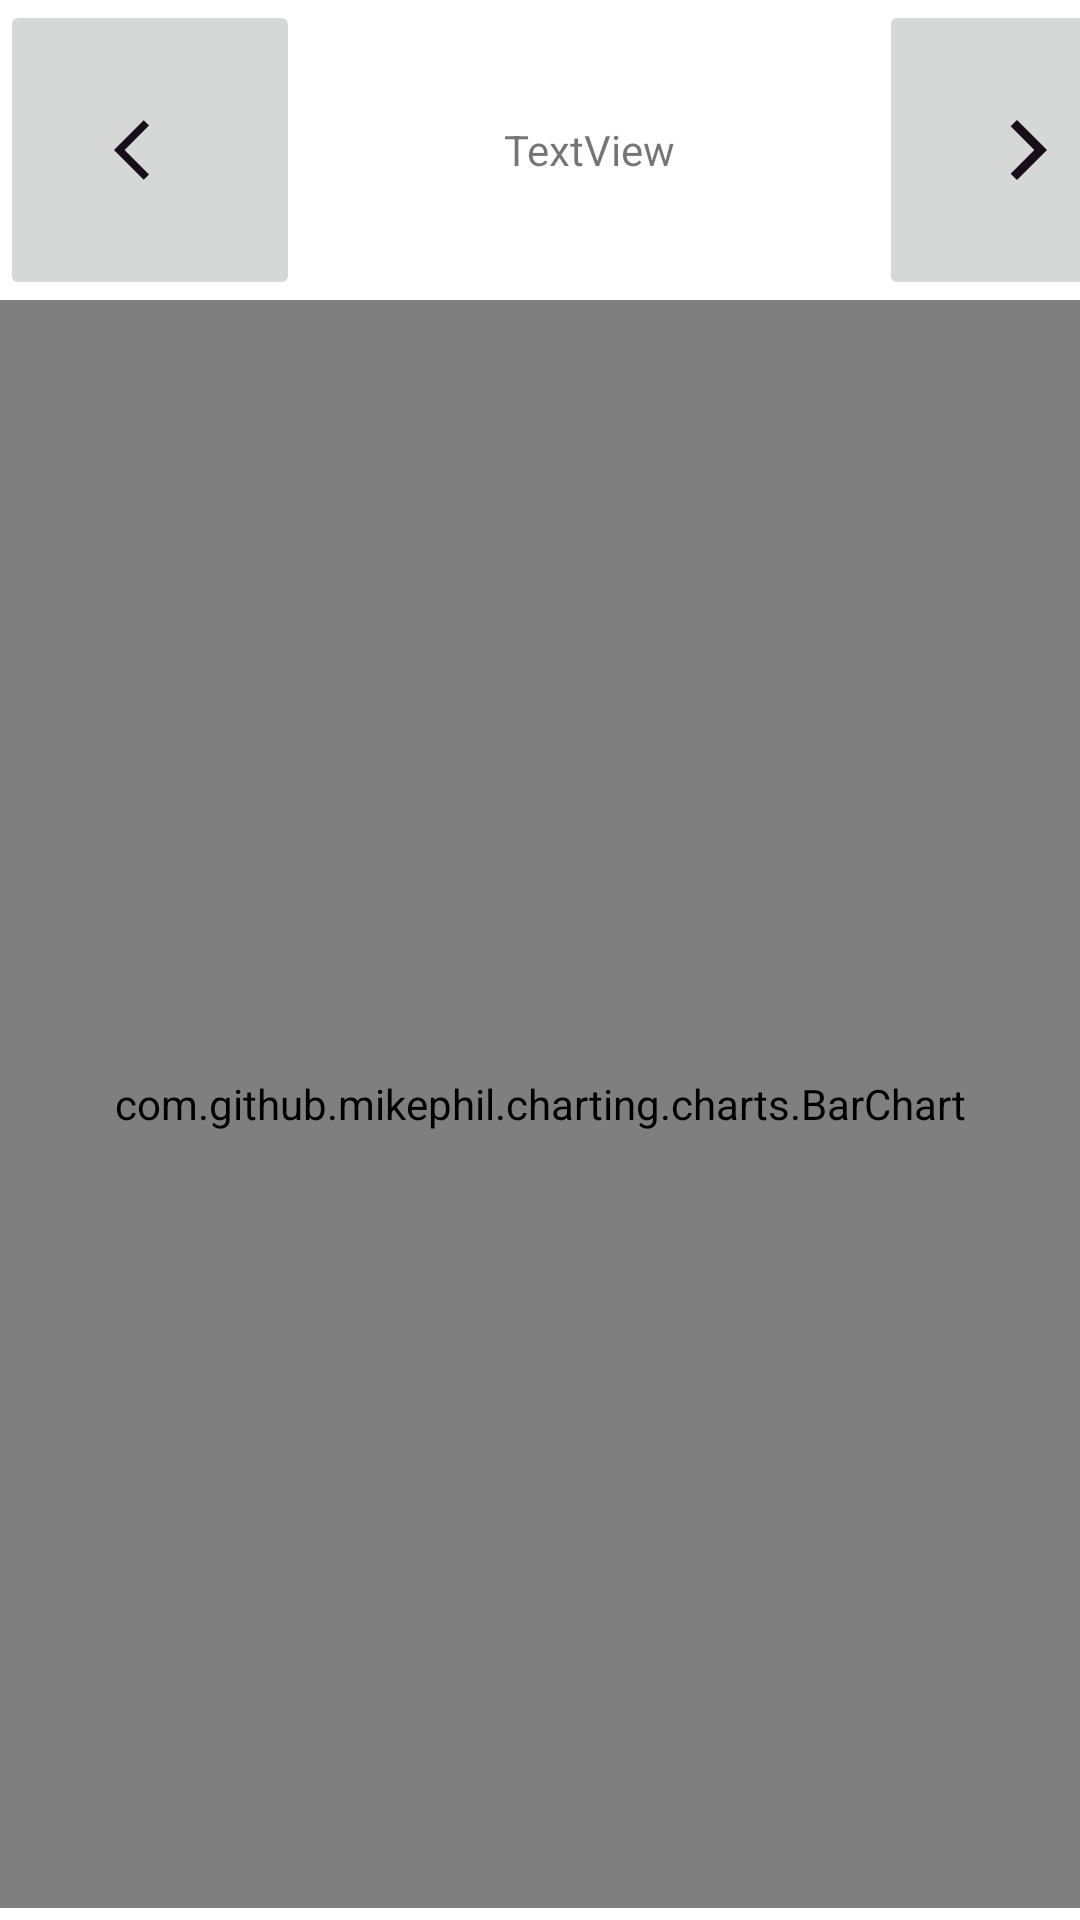

Where icons sit on this 1080w x 1920h app screen, as [left=x1, top=y1, right=x2, bottom=y2]:
back arrow: [left=12, top=18, right=288, bottom=282]
